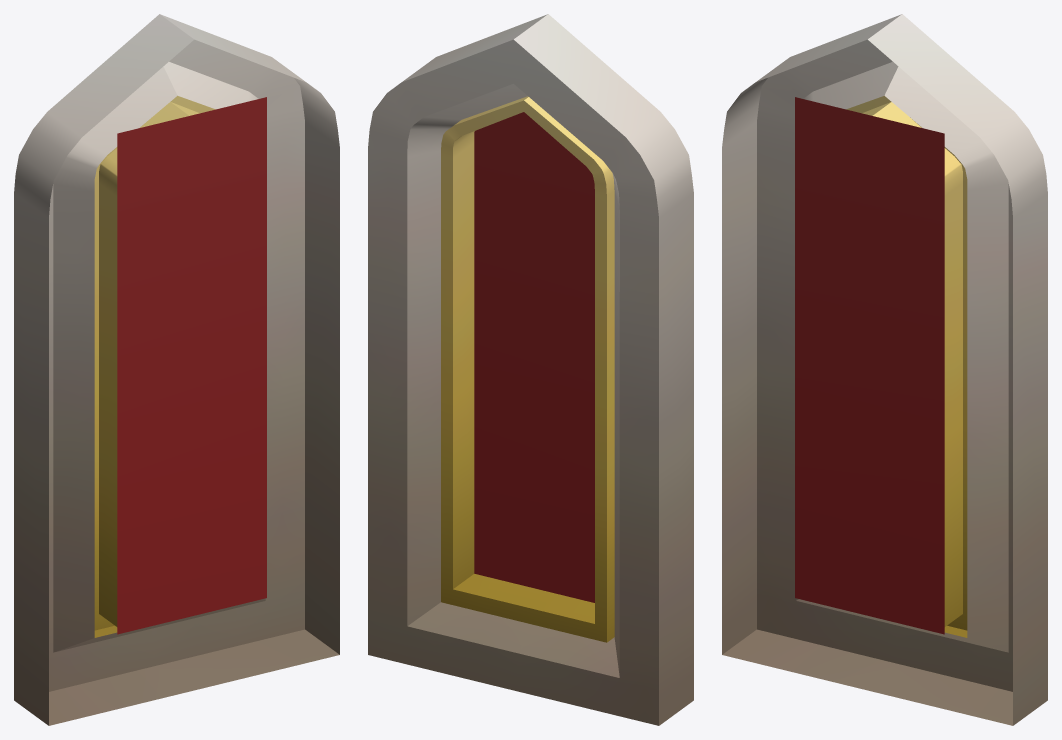
The model's file is M_Window_01.fbx.
The picture shows the model from 3 angles, left to right: view 1: azimuth 30°, elevation 25°; view 2: azimuth 150°, elevation 25°; view 3: azimuth 330°, elevation 25°; orthographic projection.
Parts seen in each view (by area): view 1: M_Window_01; view 2: M_Window_01; view 3: M_Window_01.
Boxes of the visible parts, x1,y1,x2,y2 form: M_Window_01: (14, 14, 339, 725); M_Window_01: (368, 14, 693, 725); M_Window_01: (722, 14, 1047, 725).
Bounding box in the file's own units: 266 × 569 × 55.91.
Materials: 1 (1 with a texture image).
